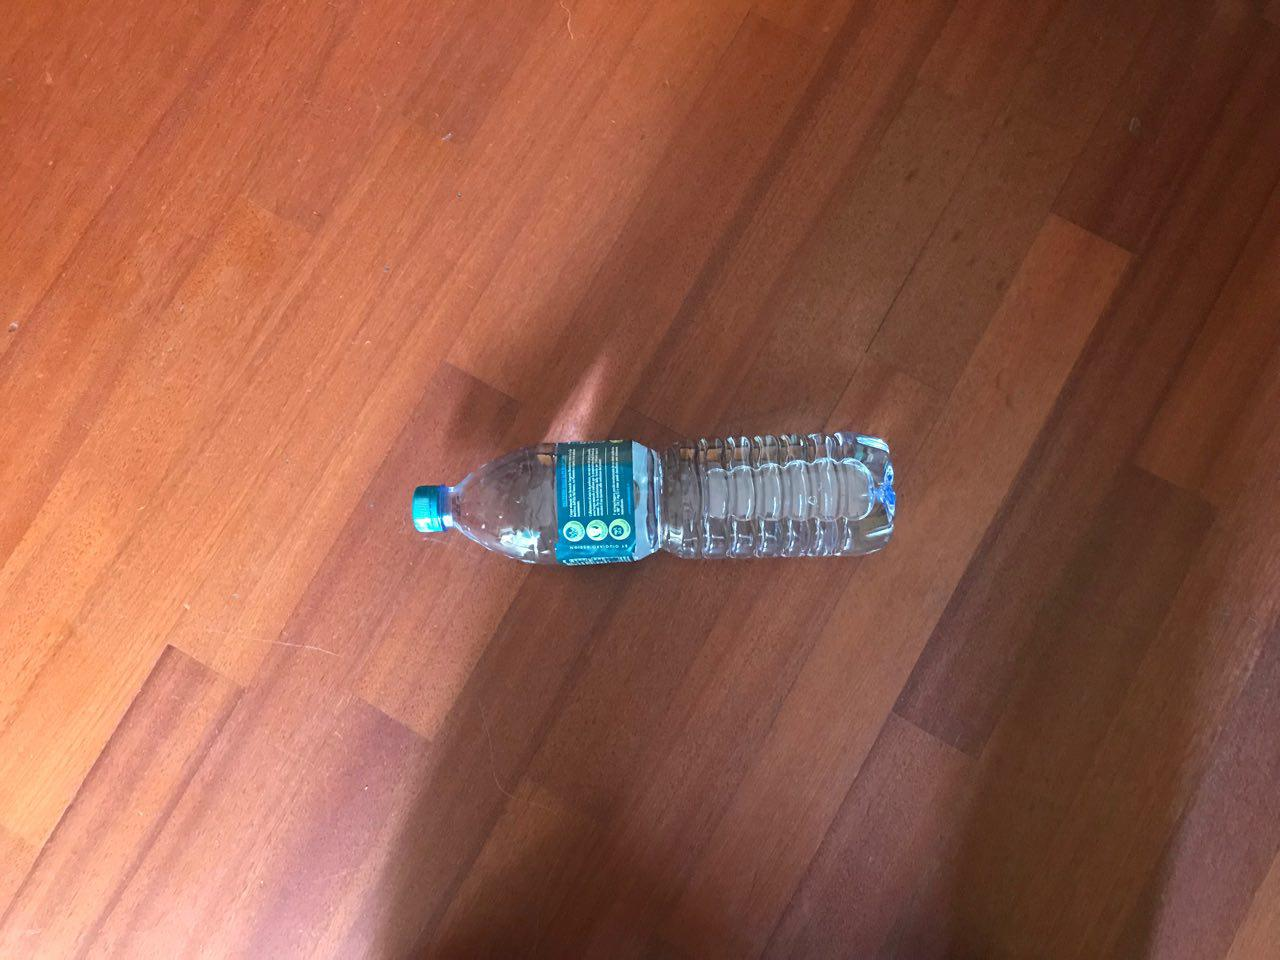san_bernardo: (409, 430, 898, 568)
